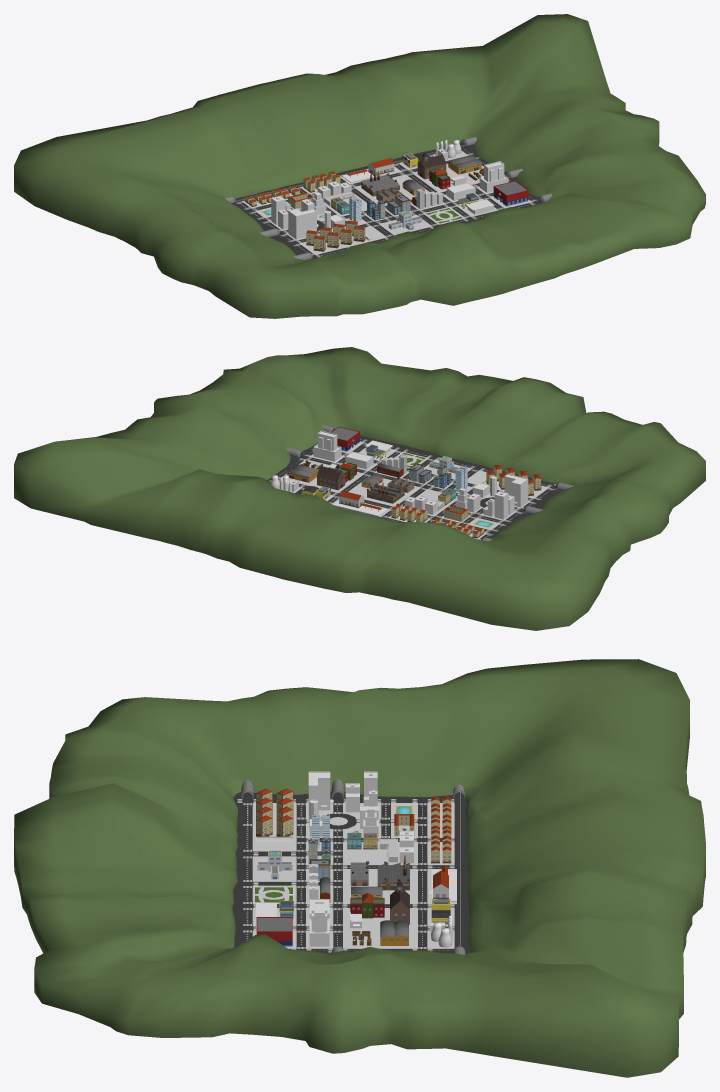
The model's file is 1_MAPA_V02.fbx.
The picture shows the model from 3 angles, top to bottom: view 1: azimuth 30°, elevation 25°; view 2: azimuth 150°, elevation 25°; view 3: azimuth 270°, elevation 25°; orthographic projection. The views are drawn at different scales.
Parts seen in each view (by area): view 1: MONTANHA.001, RUA, CALCADAS, PRED..023, CINEMA.001, TUNEL.000, SEBRAE.001, FABRICA.002, IGREJA.001; view 2: MONTANHA.001, RUA, CALCADAS, SEBRAE.001, PRED..023, IGREJA.001, FABRICA.002, CINEMA.001, TUNEL.000; view 3: MONTANHA.001, RUA, CALCADAS, CINEMA.001, PRED..023, SEBRAE.001, FABRICA.002, FABRICA.004, LANCHONETE.001, IGREJA.001.
Boxes of the visible parts, <box> form: MONTANHA.001: <box>14,14,705,318</box>; RUA: <box>233,142,541,259</box>; CALCADAS: <box>242,150,531,254</box>; PRED..023: <box>288,208,316,239</box>; CINEMA.001: <box>493,181,528,206</box>; TUNEL.000: <box>224,136,551,260</box>; SEBRAE.001: <box>479,161,508,192</box>; FABRICA.002: <box>361,168,399,196</box>; IGREJA.001: <box>417,153,446,179</box>; MONTANHA.001: <box>14,347,705,630</box>; RUA: <box>266,435,561,540</box>; CALCADAS: <box>278,441,549,539</box>; SEBRAE.001: <box>313,430,341,461</box>; PRED..023: <box>504,474,528,507</box>; IGREJA.001: <box>317,464,345,490</box>; FABRICA.002: <box>366,482,404,503</box>; CINEMA.001: <box>330,426,359,451</box>; TUNEL.000: <box>286,425,574,541</box>; MONTANHA.001: <box>14,659,705,1077</box>; RUA: <box>232,791,470,954</box>; CALCADAS: <box>252,803,456,948</box>; CINEMA.001: <box>256,917,292,946</box>; PRED..023: <box>308,771,333,817</box>; SEBRAE.001: <box>309,902,329,946</box>; FABRICA.002: <box>377,855,409,890</box>; FABRICA.004: <box>380,920,408,945</box>; LANCHONETE.001: <box>350,893,384,918</box>; IGREJA.001: <box>390,880,409,924</box>.
Bounding box in the file's own units: 66406 × 5445 × 50746.
